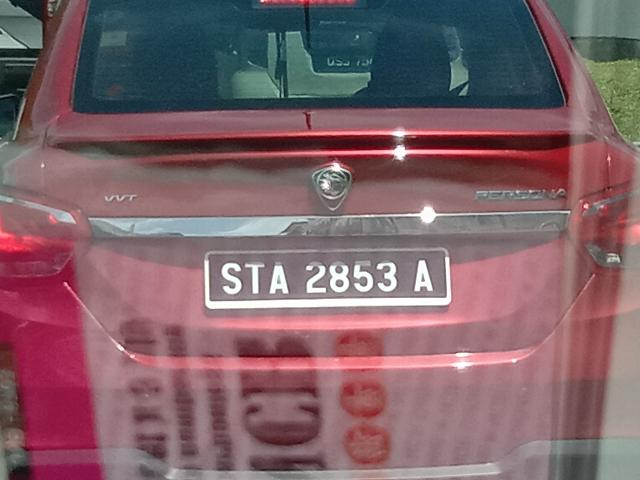License_Plate: (204, 248, 452, 310)
car: (1, 1, 640, 480)
